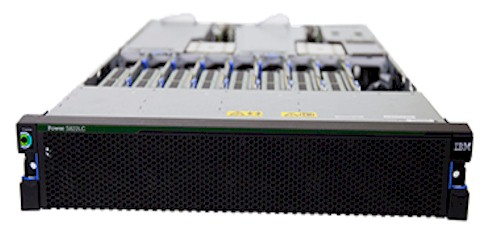ibm-server: (9, 8, 480, 225)
